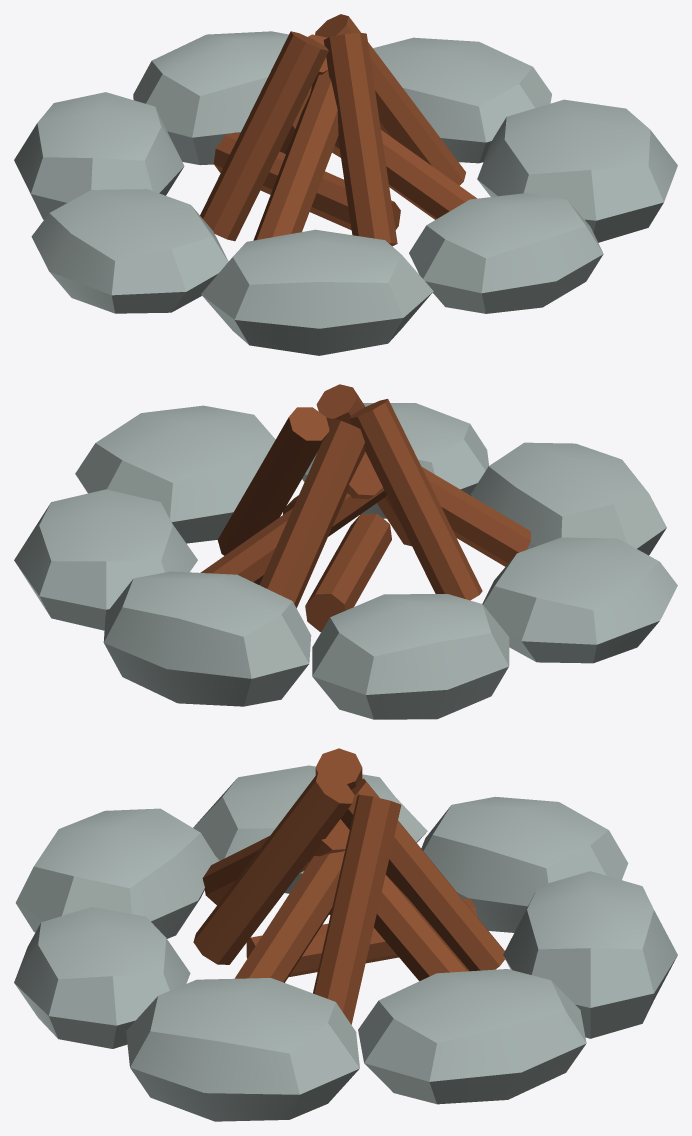
Rendered from Fireplace.fbx.
3 renders of one model, top to bottom at view 1: azimuth 30°, elevation 25°; view 2: azimuth 150°, elevation 25°; view 3: azimuth 270°, elevation 25°, orthographic. The views are drawn at different scales.
Parts seen in each view (by area): view 1: Cube; view 2: Cube; view 3: Cube.
Part boxes in pixels (x1=…): Cube: x1=14, y1=14, x2=677, y2=355; Cube: x1=14, y1=384, x2=677, y2=719; Cube: x1=14, y1=748, x2=677, y2=1121.
Size of the model in its own units: 234 by 84.69 by 214.
